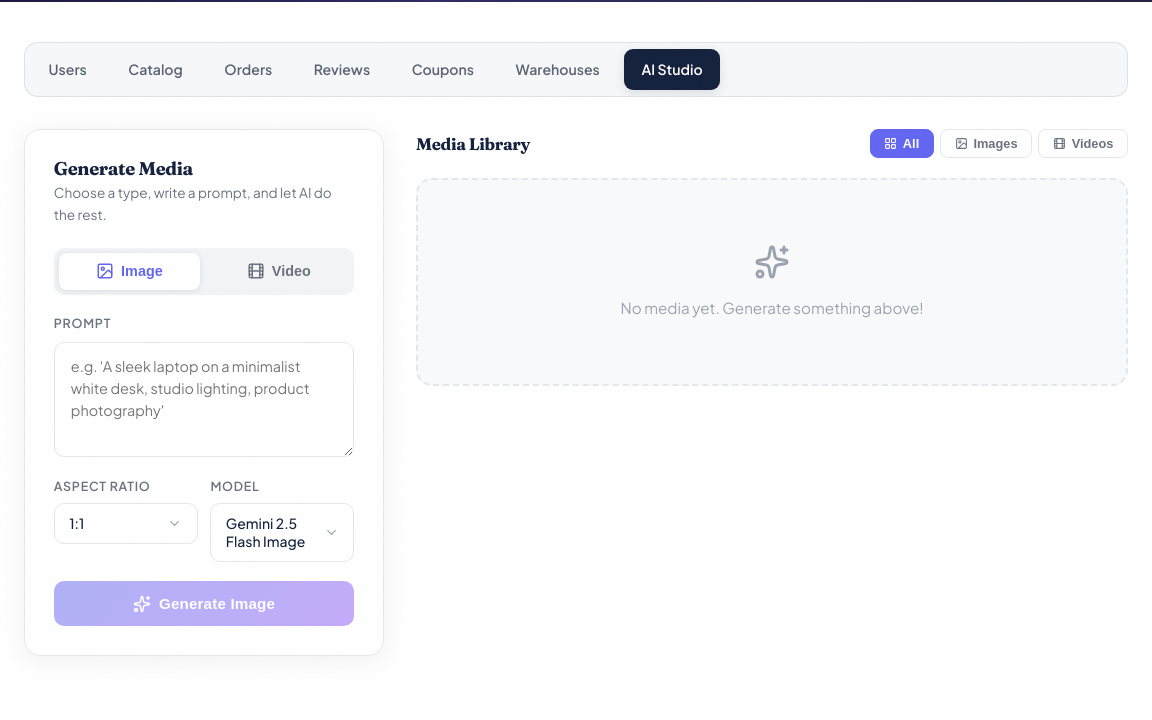
it: AdminAiStudioPage — dropdowns render › opens Aspect Ratio options on click
This screenshot has width=1152, height=720.
(page scrolled)
Expected: the text "Aspect Ratio" is shown, [54,478,151,494]
The trigger shows the selected label "1:1"
Click the button "1:1".
click(126, 523)  # box [54,503,198,544]
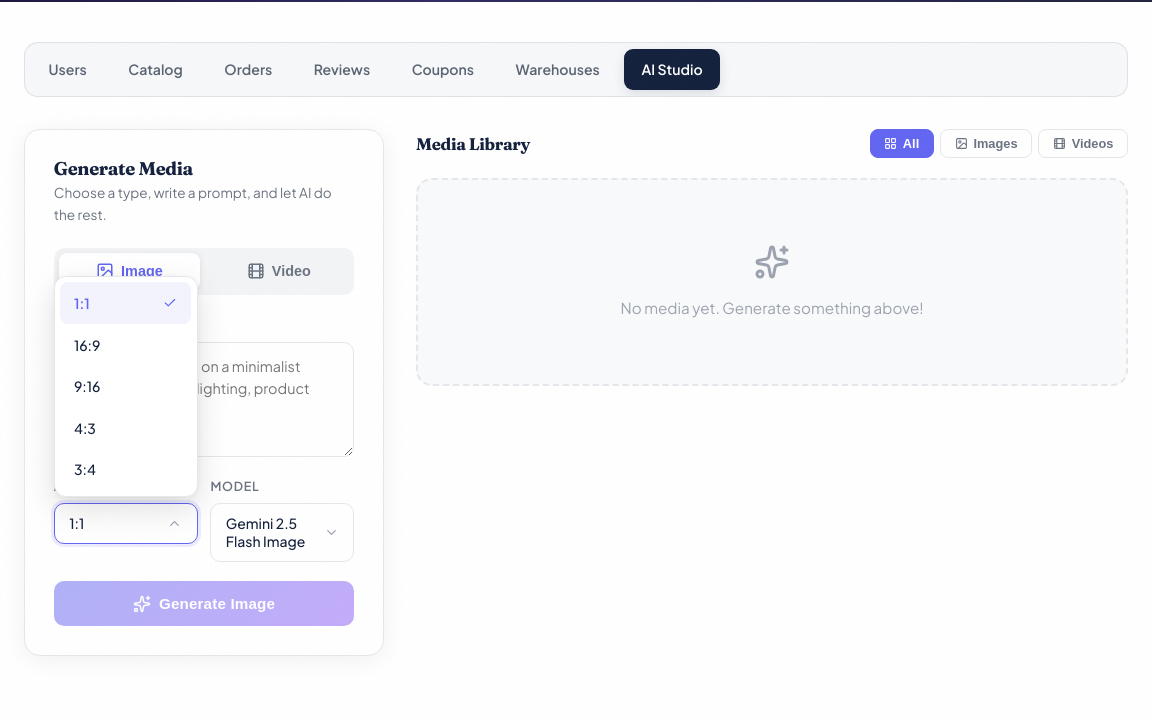
Expected: the list is shown, [54,276,198,497]
